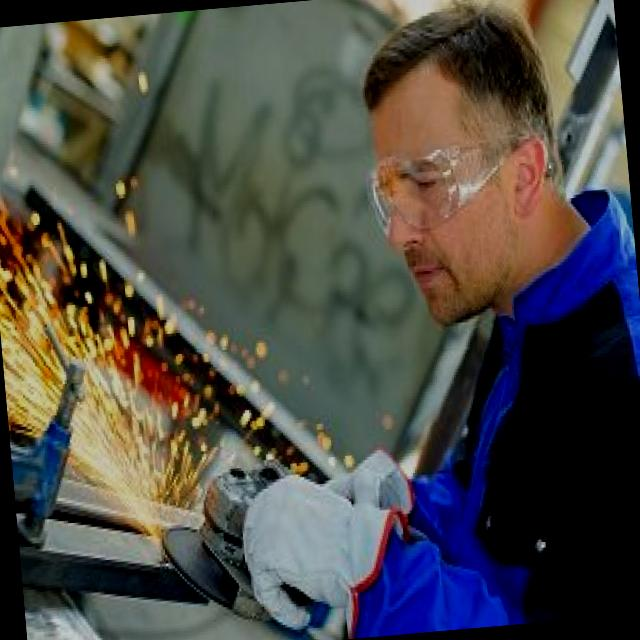goggles: (356, 127, 546, 241)
no-helmet: (342, 0, 556, 143)
no-vest: (439, 296, 640, 628)
